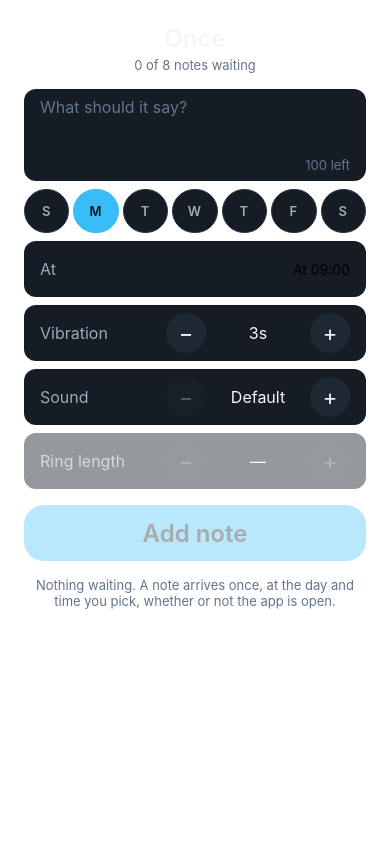
Test: OneOffsScreen › takes the day and time from the pickers
The width and height of the screenshot is (390, 844).
Click the radio button named "Friday": (294, 211) [271, 189, 316, 233]
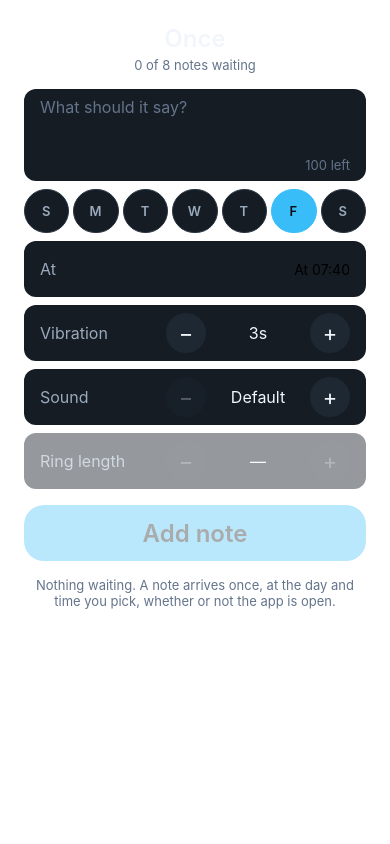
In the text box named "Note": (195, 125) [40, 97, 350, 153], type "Bins out"
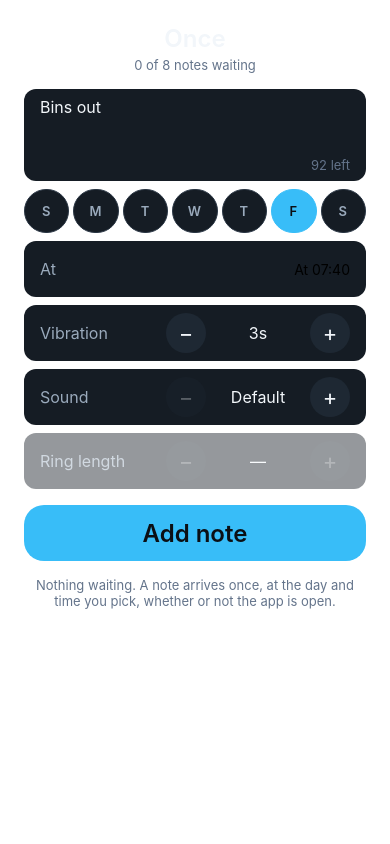
Click the button labelled "Add note": (195, 533) [24, 505, 366, 561]
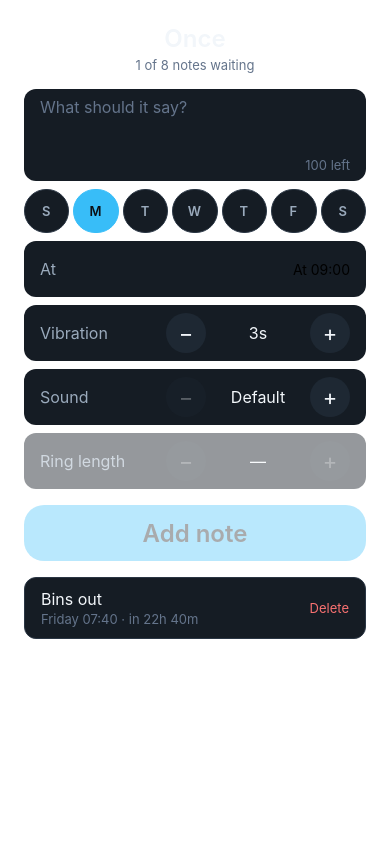
Expected: the text "Friday 07:40 · in 22h 40m" is shown, [41, 611, 198, 627]
